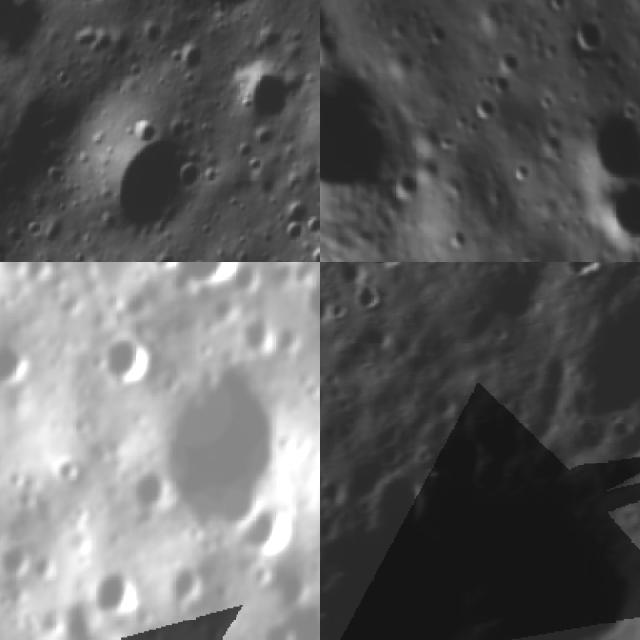crater: (167, 357, 320, 534), (320, 59, 425, 230), (93, 107, 216, 250), (573, 268, 640, 420), (563, 92, 640, 196), (586, 165, 640, 260), (233, 50, 299, 125), (370, 463, 436, 532), (171, 0, 288, 36), (438, 425, 496, 496), (81, 561, 143, 622), (100, 326, 159, 389), (233, 502, 292, 564), (118, 456, 178, 514), (146, 262, 241, 296), (165, 556, 214, 608), (566, 7, 613, 59), (0, 330, 38, 385), (44, 448, 88, 490), (0, 537, 40, 582), (480, 60, 520, 104), (466, 85, 506, 125), (491, 41, 528, 82), (228, 262, 270, 298), (610, 416, 640, 464), (46, 0, 120, 16), (296, 275, 320, 322), (554, 262, 603, 282), (353, 279, 384, 310), (320, 506, 347, 540), (337, 262, 374, 286), (515, 248, 568, 262), (539, 0, 578, 19), (331, 296, 352, 320), (320, 287, 332, 327)
